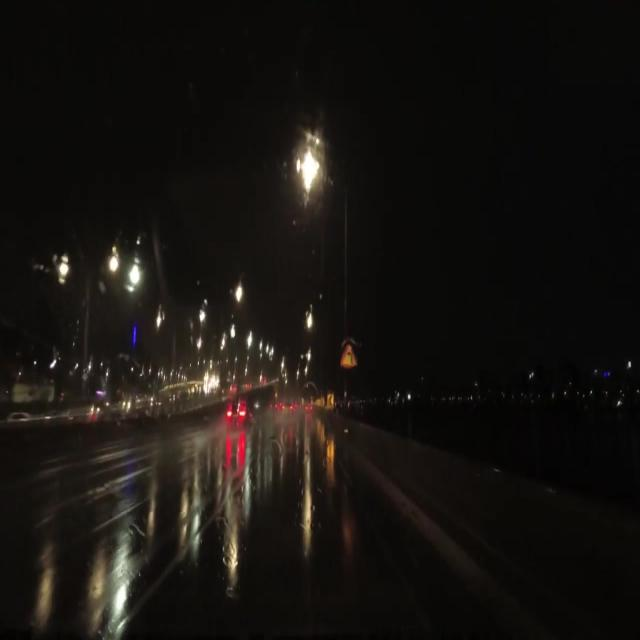Car: (226, 397, 251, 431)
